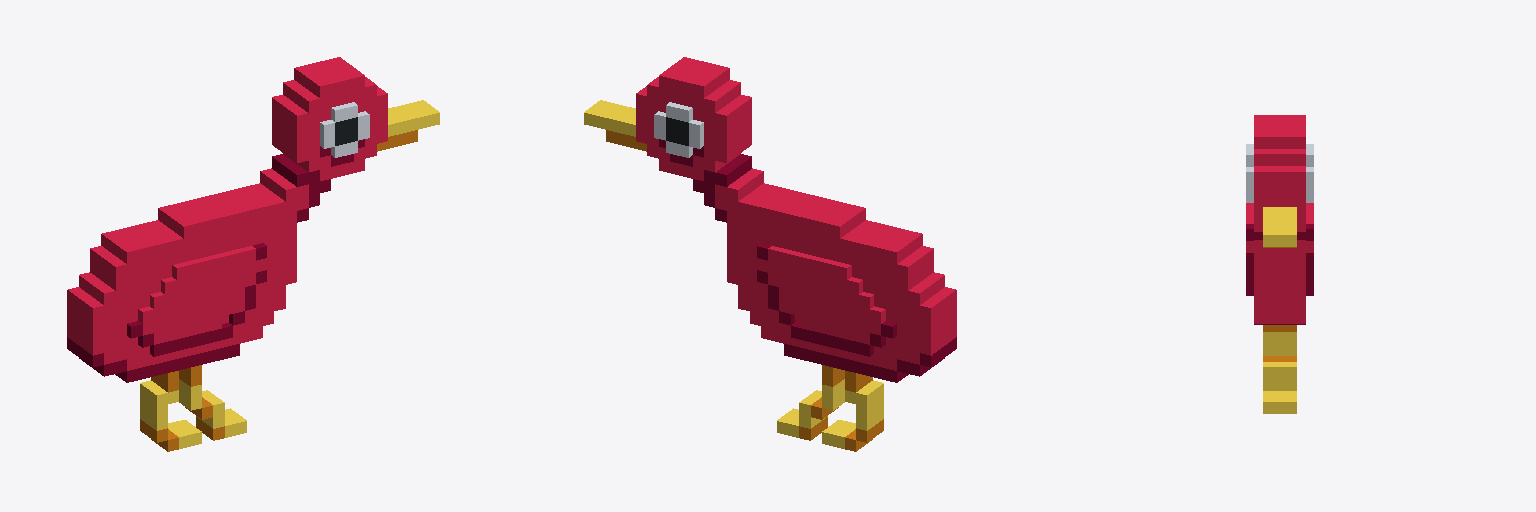
Rendered from Bird.obj.
3 views of the same model, side by side, from view 1: azimuth 30°, elevation 25°; view 2: azimuth 150°, elevation 25°; view 3: azimuth 270°, elevation 25° (orthographic).
Bounding box in the file's own units: 31 × 28 × 5.2.